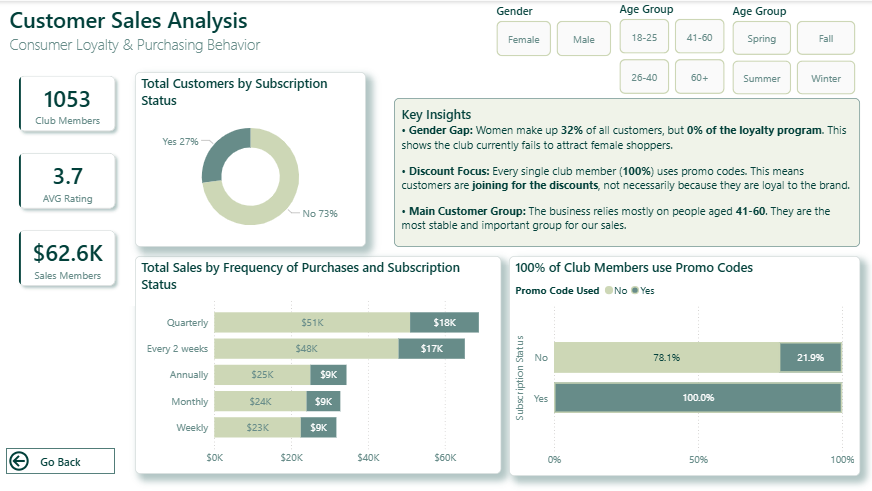

The dashboard page shown, as its layout file describes it:
{"tool":"powerbi","page":{"name":"Consumer Loyalty & Purchasing Behavior","canvas":[1280,720],"ordinal":1},"visuals":[{"type":"textbox","box":[10.1,0,393.1,80.6],"z":0},{"type":"barChart","fields":{"Category":["shopping_behavior_cleaned.Frequency of Purchases"],"Y":["_Measures .Total Sales"],"Series":["shopping_behavior_cleaned.Subscription Status"]},"box":[199,373.2,535.6,319],"z":1000},{"type":"cardVisual","fields":{"Data":["_Measures .Club Members Count","Avg(shopping_behavior_cleaned.Review Rating)","_Measures .Sales Members"]},"box":[0,80.5,199,366],"z":2000},{"type":"donutChart","fields":{"Y":["_Measures .Total Customers"],"Category":["shopping_behavior_cleaned.Subscription Status"]},"box":[199,103.9,338,256.1],"z":3000},{"type":"hundredPercentStackedBarChart","title":"100% of Club Members use Promo Codes","fields":{"Category":["shopping_behavior_cleaned.Subscription Status"],"Y":["_Measures .Total Customers"],"Series":["shopping_behavior_cleaned.Promo Code Used"]},"box":[746.4,372.5,514.5,321.7],"z":4000},{"type":"advancedSlicerVisual","title":"Gender","fields":{"Values":["shopping_behavior_cleaned.Gender"]},"box":[722.9,3.4,179.4,83.7],"z":5000},{"type":"textbox","box":[578,142,682,218],"z":6000},{"type":"advancedSlicerVisual","title":"Age Group","fields":{"Values":["shopping_behavior_cleaned.Season"]},"box":[1068.5,2.9,191.5,139.7],"z":7000},{"type":"advancedSlicerVisual","title":"Age Group","fields":{"Values":["shopping_behavior_cleaned.Age Group"]},"box":[902.9,0,165.6,142.6],"z":8000},{"type":"actionButton","box":[10.2,654.1,159.5,38],"z":9000}]}

Visuals, with their boxes in screenshot pixels (x1, y1, x2, y2), scaled from the page's 1280x720 canvas onto the 872x491 screenshot:
textbox: 7,0,275,55
barChart - shopping_behavior_cleaned.Frequency of Purchases x _Measures .Total Sales: 136,255,500,472
cardVisual - _Measures .Club Members Count x Avg(shopping_behavior_cleaned.Review Rating): 0,55,136,304
donutChart - _Measures .Total Customers x shopping_behavior_cleaned.Subscription Status: 136,71,366,246
"100% of Club Members use Promo Codes" hundredPercentStackedBarChart: 508,254,859,473
"Gender" advancedSlicerVisual: 492,2,615,59
textbox: 394,97,858,246
"Age Group" advancedSlicerVisual: 728,2,858,97
"Age Group" advancedSlicerVisual: 615,0,728,97
actionButton: 7,446,116,472
